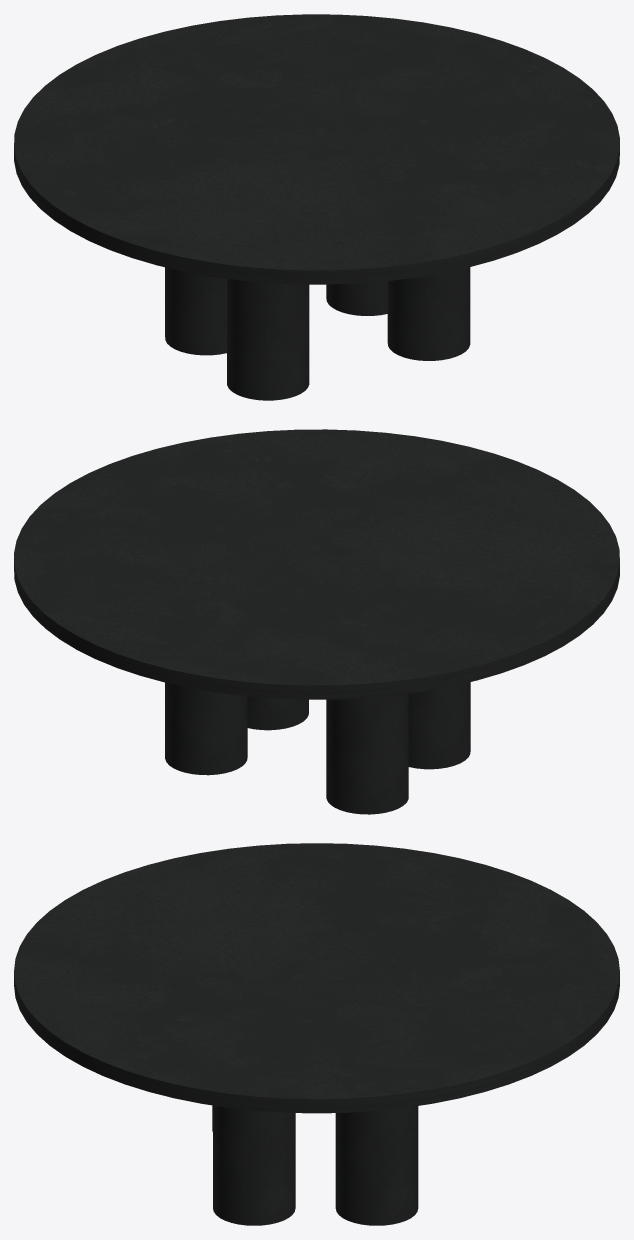
The model's file is darknight_round_standard_grove.glb.
3 views of the same model, one above another, from view 1: azimuth 30°, elevation 25°; view 2: azimuth 150°, elevation 25°; view 3: azimuth 270°, elevation 25° (orthographic).
Visible parts, largest first — view 1: darknight_roundstandard_grove; view 2: darknight_roundstandard_grove; view 3: darknight_roundstandard_grove.
Boxes of the visible parts, bbox=[...] form: darknight_roundstandard_grove: bbox=[14, 14, 619, 400]; darknight_roundstandard_grove: bbox=[14, 429, 619, 814]; darknight_roundstandard_grove: bbox=[14, 843, 619, 1225].
Bounding box in the file's own units: 6.97 × 2.51 × 6.97.
Materials: 1 (1 with a texture image).
